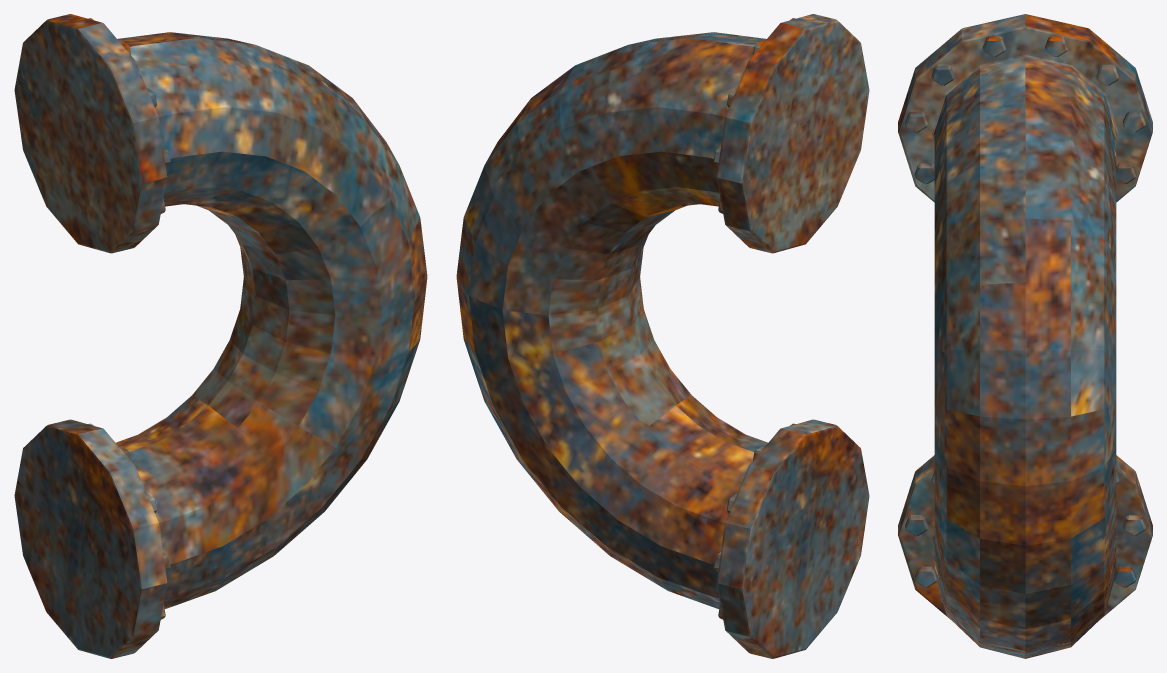
File: pipe.08.fbx
3 renders of one model, left to right at view 1: azimuth 30°, elevation 25°; view 2: azimuth 150°, elevation 25°; view 3: azimuth 270°, elevation 25°, orthographic.
Visible parts, largest first — view 1: Pipe.08; view 2: Pipe.08; view 3: Pipe.08.
Boxes of the visible parts, x1=… form: Pipe.08: x1=14, y1=14, x2=427, y2=658; Pipe.08: x1=456, y1=14, x2=869, y2=658; Pipe.08: x1=898, y1=14, x2=1152, y2=658.
Bounding box in the file's own units: 85.27 × 150 × 55.99.
